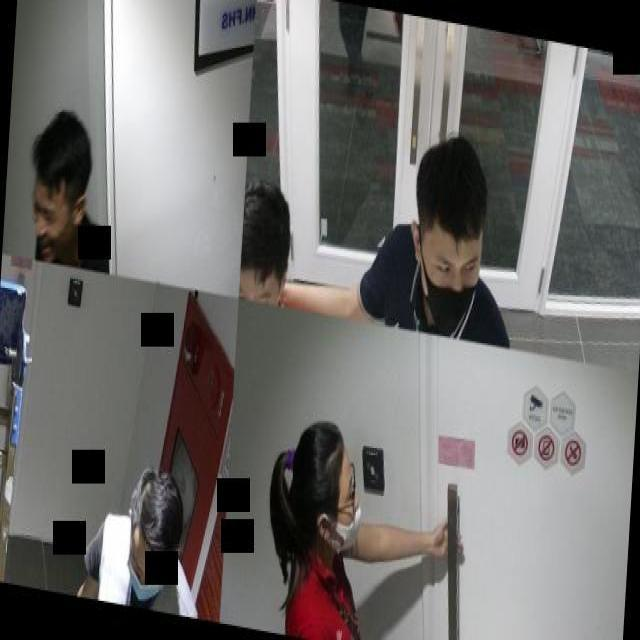hairnet: (329, 460, 362, 554)
